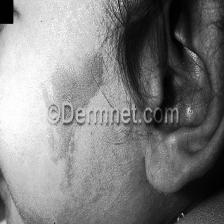Benign Marking or Mole: (46, 55, 108, 175)
